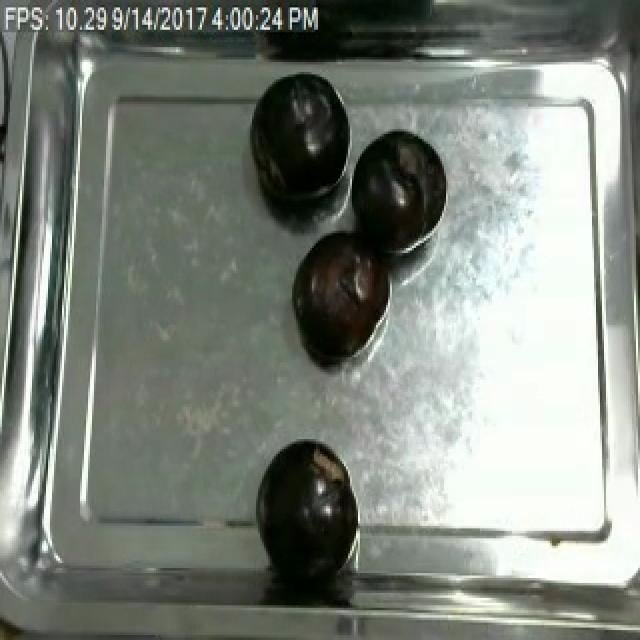Fruit: (248, 432, 360, 570), (246, 72, 354, 211), (286, 226, 388, 370), (348, 124, 448, 260)
